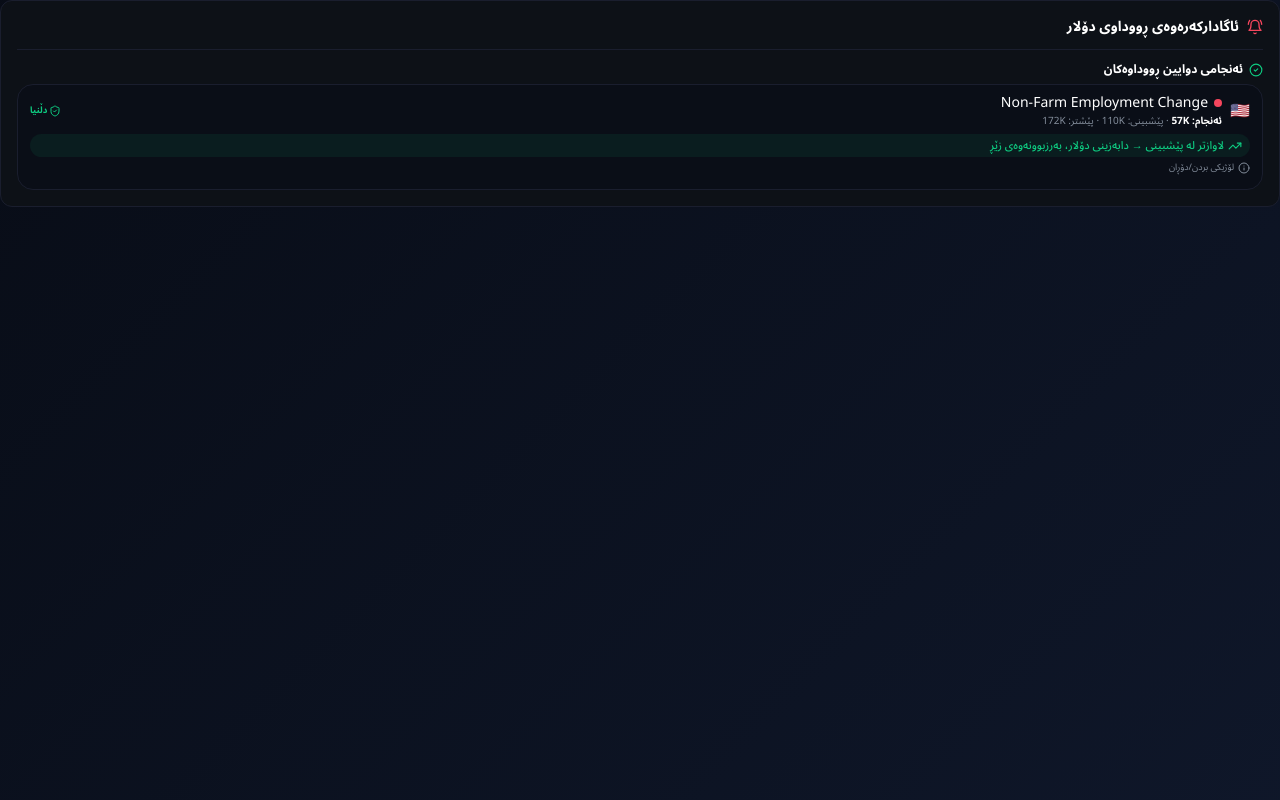
Scenario: EventAlertBanner — method tooltip EN + KU › KU beat/miss: trigger label + tooltip content in Kurdish
This screenshot has width=1280, height=800.
Hover over the button with aria-label "چۆن ئەم شیکارییە دروستکرا" at (1209, 168), box [1169, 161, 1250, 175]
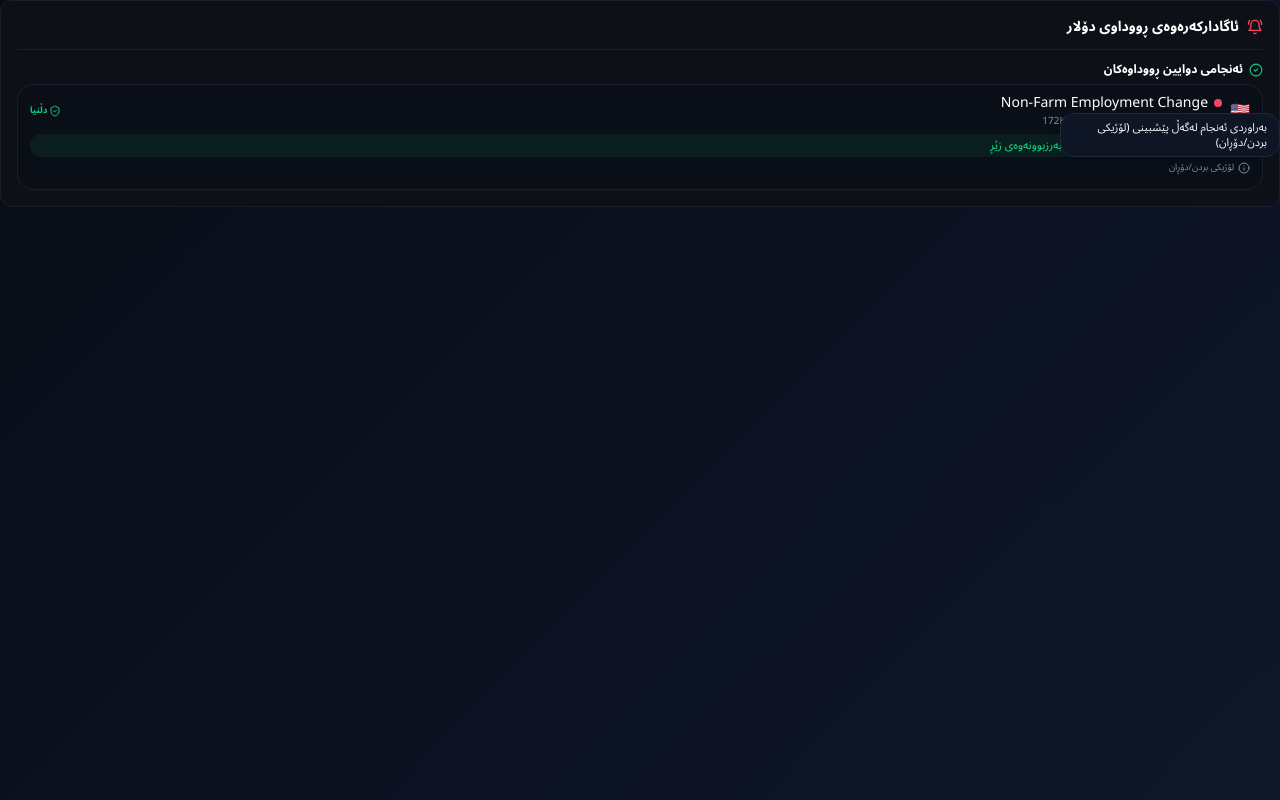
Result: the tooltip "بەراوردی ئەنجام لەگەڵ پێشبینی (لۆژیکی بردن/دۆڕان)" is shown at [1060, 113, 1279, 157]
